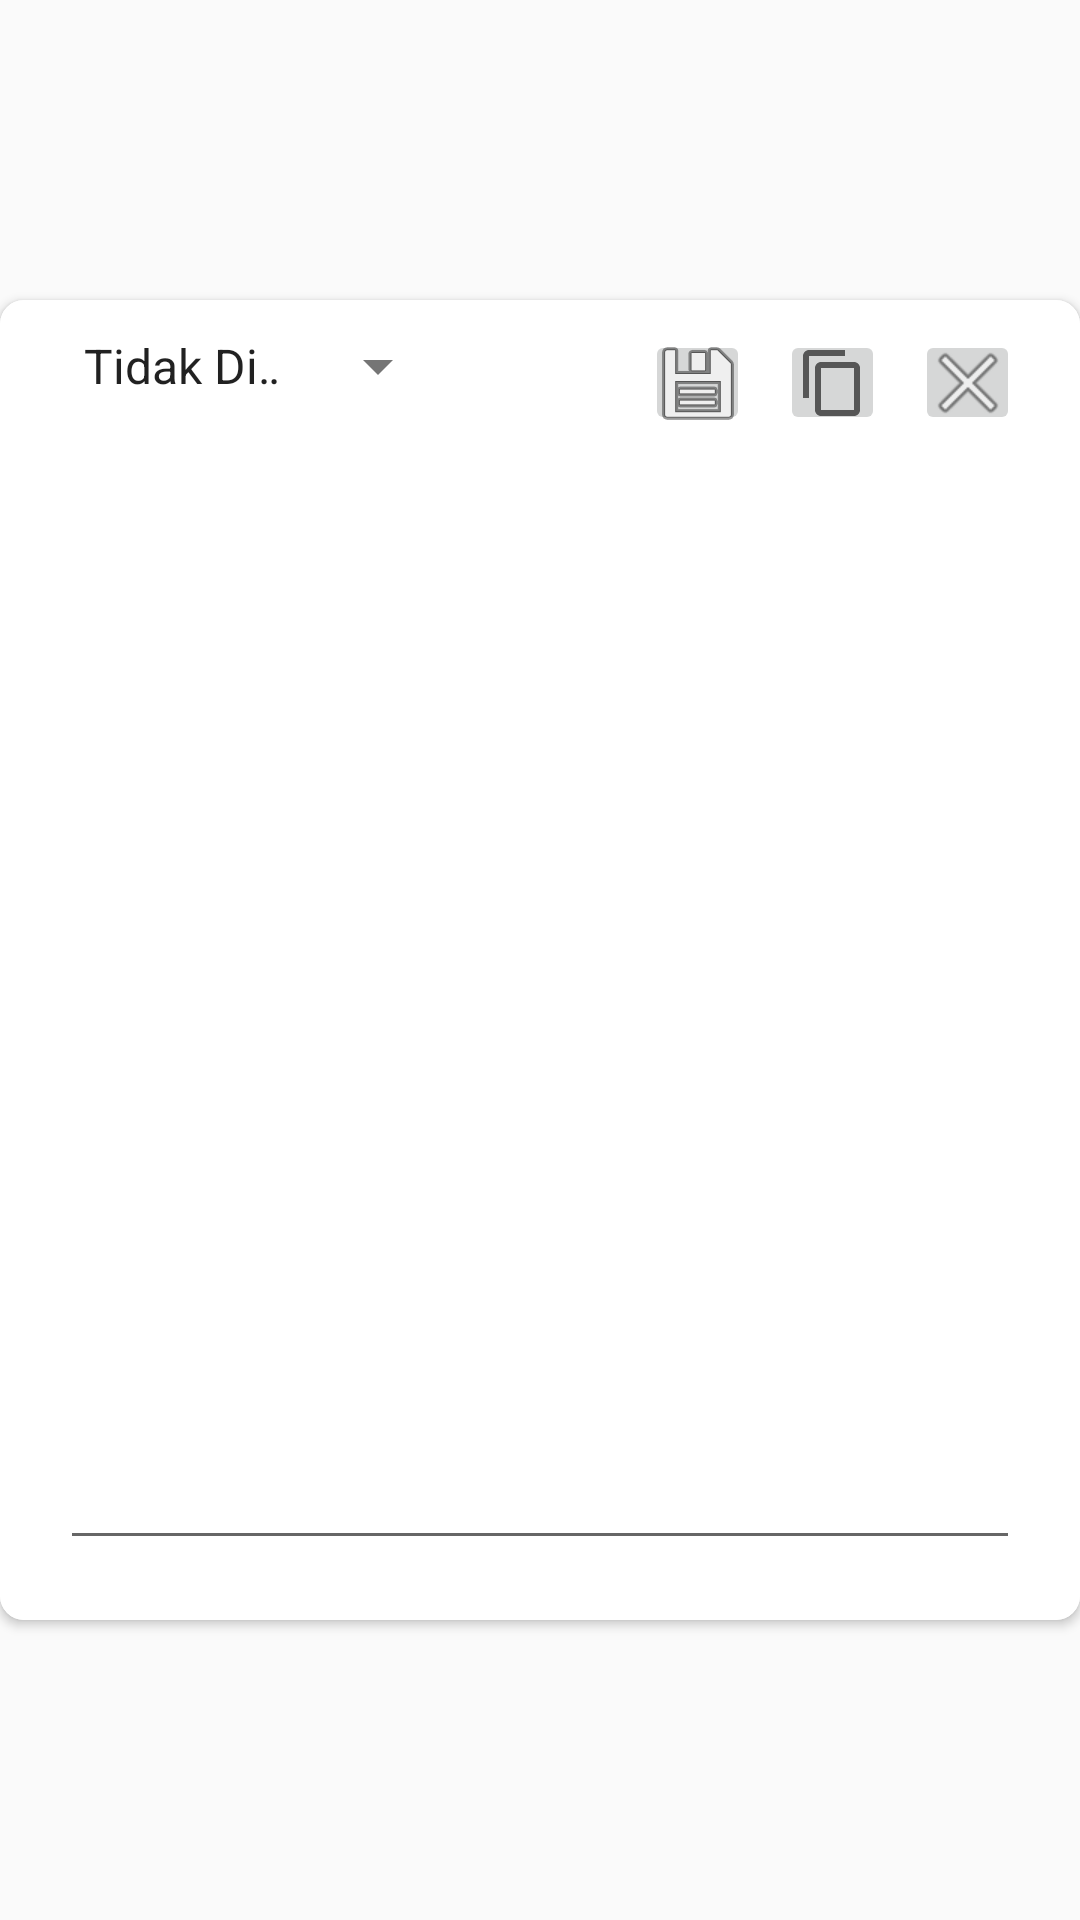

Icons on this 1080px x 1920px Android screen, each with its box as bbox=[x1, y1, x2, y2]:
close clear cancel: bbox=[927, 348, 1008, 417]
save: bbox=[657, 347, 738, 420]
